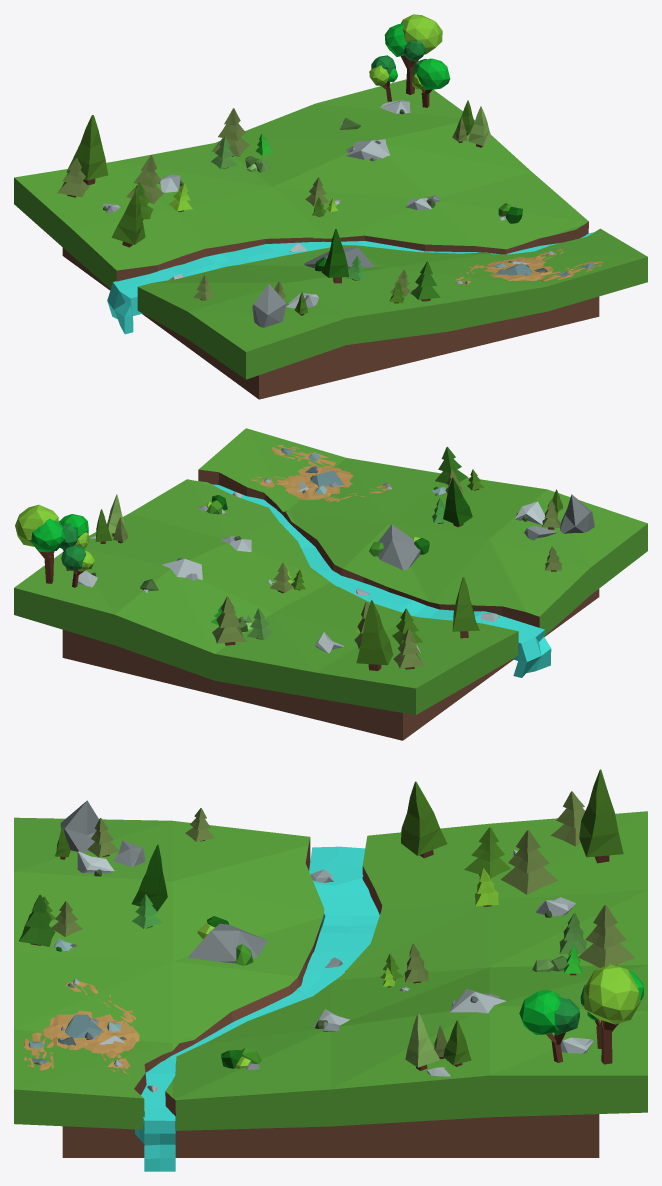
The model's file is low_poly_floating_island.glb.
The picture shows the model from 3 angles, top to bottom: view 1: azimuth 30°, elevation 25°; view 2: azimuth 150°, elevation 25°; view 3: azimuth 270°, elevation 25°; orthographic projection. The views are drawn at different scales.
Parts seen in each view (by area): view 1: grass_1, dirt_0, river3_22, Icosphere.007_70, Pine_tree_89, Icosphere.006_6, Pine_tree.001_69, rock1_23, Cylinder_63, Pine_tree.006_86, Tree.010_74, Icosphere.005_87 (+5 smaller); view 2: grass_1, dirt_0, river3_22, Icosphere.007_70, Pine_tree_89, rock1.002_29, Cylinder_63, Pine_tree.001_69, Tree.010_74, rock1_23, river2_21, Pine_tree.006_86 (+6 smaller); view 3: grass_1, dirt_0, river3_22, Icosphere.007_70, river1_20, Pine_tree_89, Icosphere.006_6, Cylinder_63, Pine_tree.001_69, Tree.003_65, rock1.002_29, Tree.010_74 (+17 smaller).
Boxes of the visible parts, x1=… form: grass_1: x1=14, y1=79, x2=647, y2=379; dirt_0: x1=62, y1=239, x2=599, y2=399; river3_22: x1=107, y1=241, x2=348, y2=334; Icosphere.007_70: x1=384, y1=14, x2=442, y2=94; Pine_tree_89: x1=66, y1=115, x2=107, y2=185; Icosphere.006_6: x1=412, y1=58, x2=450, y2=107; Pine_tree.001_69: x1=111, y1=190, x2=145, y2=247; rock1_23: x1=252, y1=283, x2=286, y2=327; Cylinder_63: x1=483, y1=257, x2=553, y2=281; Pine_tree.006_86: x1=321, y1=229, x2=348, y2=283; Tree.010_74: x1=212, y1=108, x2=249, y2=156; Icosphere.005_87: x1=369, y1=55, x2=397, y2=101; grass_1: x1=14, y1=428, x2=647, y2=714; dirt_0: x1=62, y1=496, x2=599, y2=740; river3_22: x1=325, y1=572, x2=551, y2=677; Icosphere.007_70: x1=15, y1=504, x2=65, y2=583; Pine_tree_89: x1=356, y1=600, x2=393, y2=670; rock1.002_29: x1=377, y1=524, x2=420, y2=570; Cylinder_63: x1=283, y1=465, x2=353, y2=500; Pine_tree.001_69: x1=452, y1=577, x2=479, y2=638; Tree.010_74: x1=212, y1=596, x2=246, y2=645; rock1_23: x1=560, y1=494, x2=594, y2=533; river2_21: x1=272, y1=511, x2=335, y2=580; Pine_tree.006_86: x1=443, y1=477, x2=472, y2=527; grass_1: x1=14, y1=811, x2=647, y2=1130; dirt_0: x1=62, y1=953, x2=599, y2=1157; river3_22: x1=296, y1=846, x2=379, y2=993; Icosphere.007_70: x1=580, y1=964, x2=643, y2=1064; river1_20: x1=134, y1=1059, x2=175, y2=1171; Pine_tree_89: x1=579, y1=769, x2=623, y2=863; Icosphere.006_6: x1=519, y1=989, x2=579, y2=1062; Cylinder_63: x1=43, y1=1010, x2=139, y2=1053; Pine_tree.001_69: x1=401, y1=781, x2=447, y2=858; Tree.003_65: x1=501, y1=830, x2=557, y2=894; rock1.002_29: x1=187, y1=923, x2=267, y2=963; Tree.010_74: x1=578, y1=905, x2=635, y2=967.
Bounding box in the file's own units: 2.62 × 0.8783 × 2.48.
